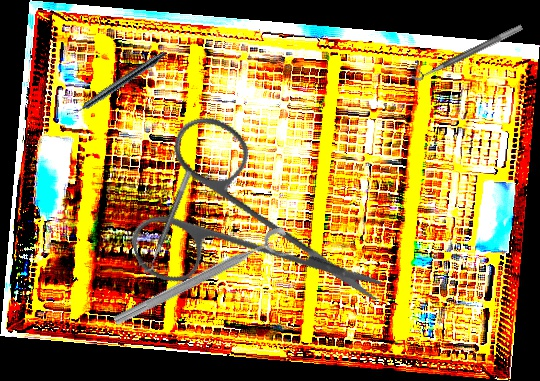Fixation Ring: (110, 225, 296, 340), (406, 15, 524, 84), (136, 166, 193, 276)
Handpiece: (65, 47, 168, 122)
Iris Scissors: (100, 79, 387, 371)
